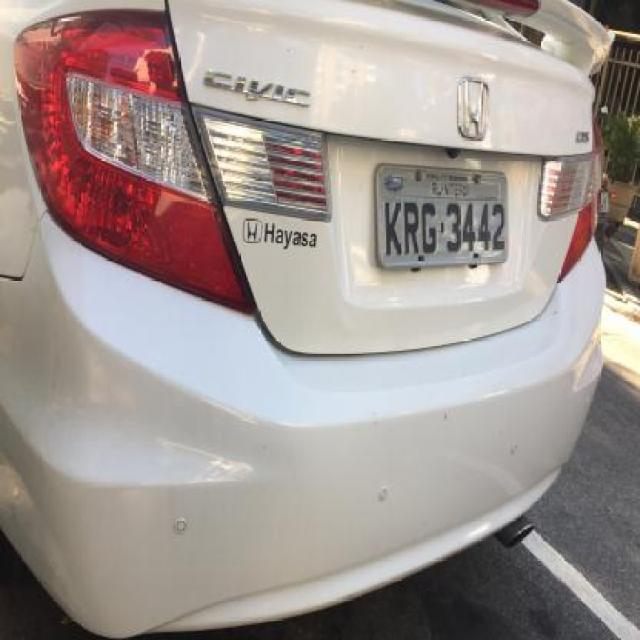old_plate: (368, 159, 514, 276)
